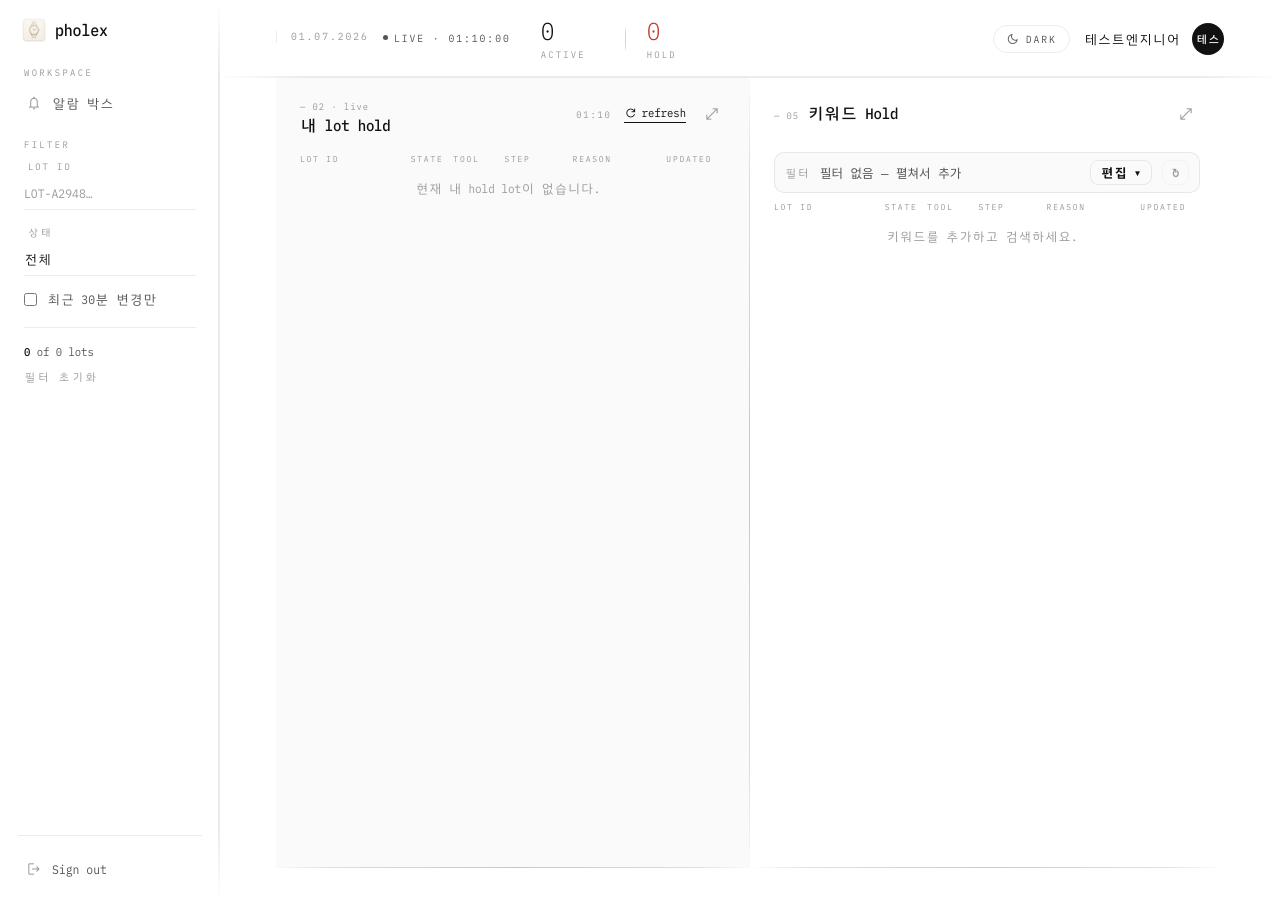
Test: App › refreshes the live slot through websocket and force-refresh fetch
This screenshot has width=1280, height=900.
Click the button with aria-label "즉시 갱신": (655,114) [624, 106, 686, 122]
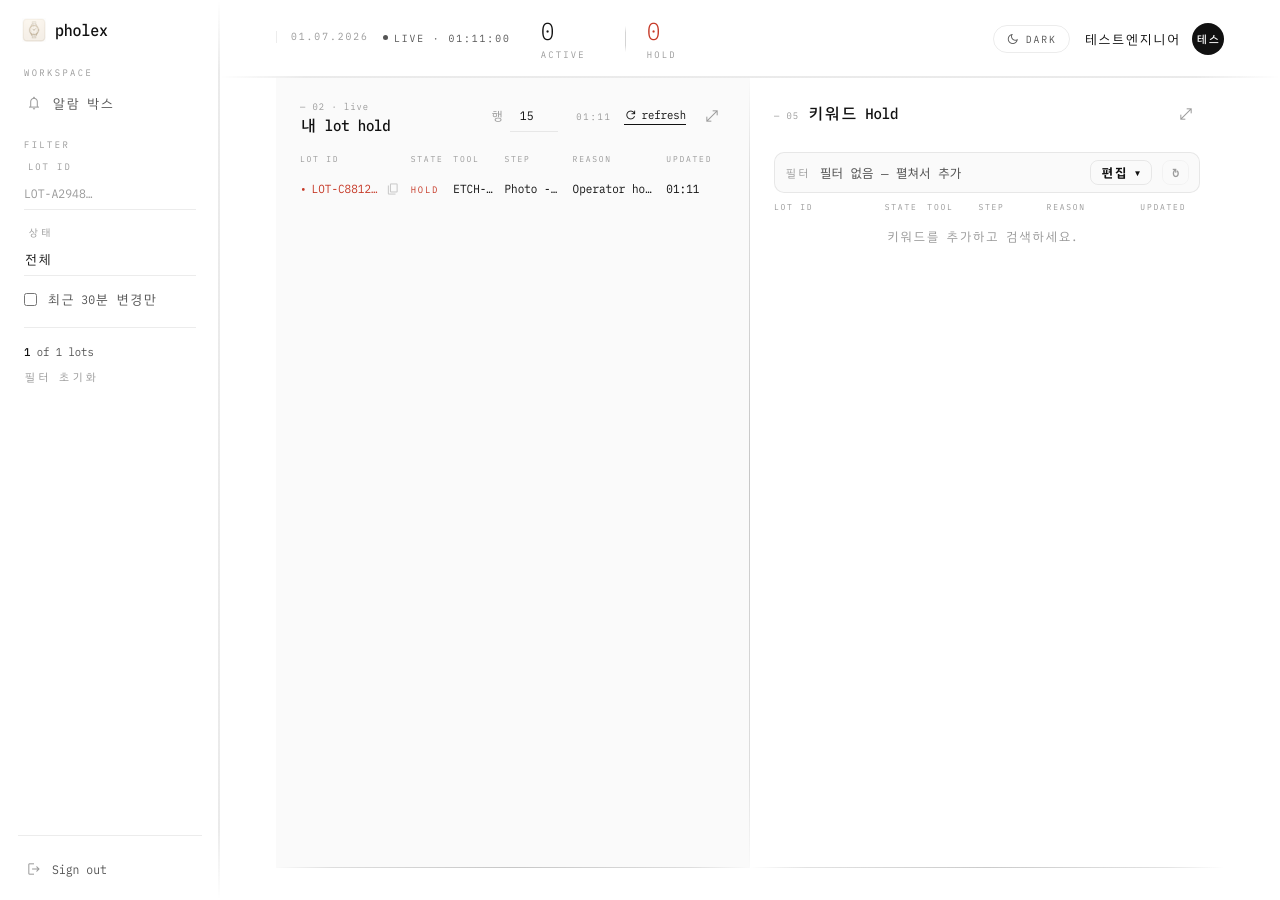
expect the text "LOT-C8812-44" is shown: met, box [312, 181, 380, 198]
